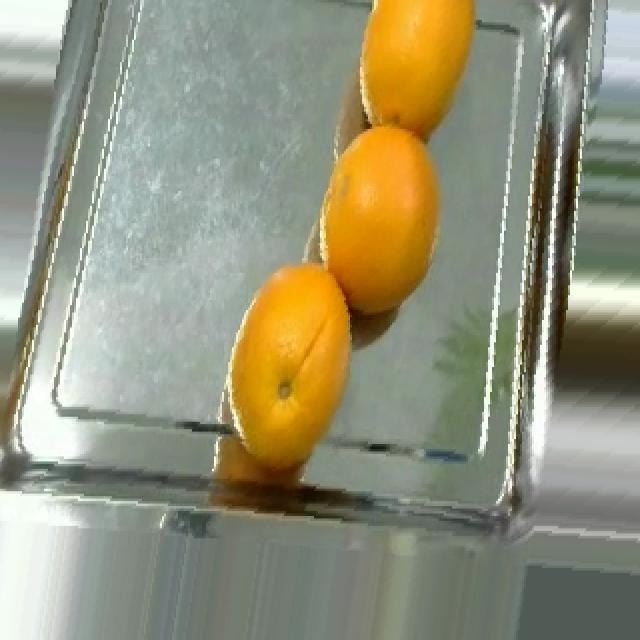Fruit: (214, 245, 362, 459), (342, 0, 494, 171)
